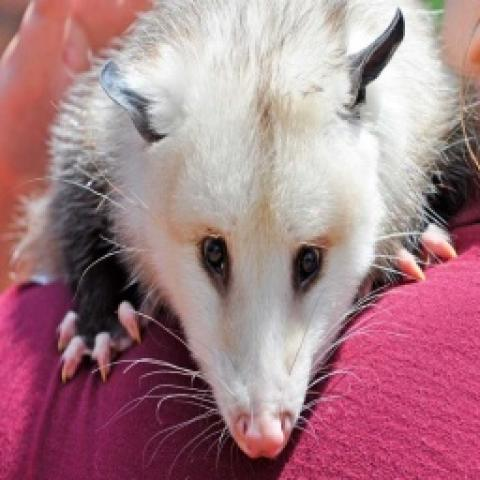small_animal: (54, 0, 462, 458)
